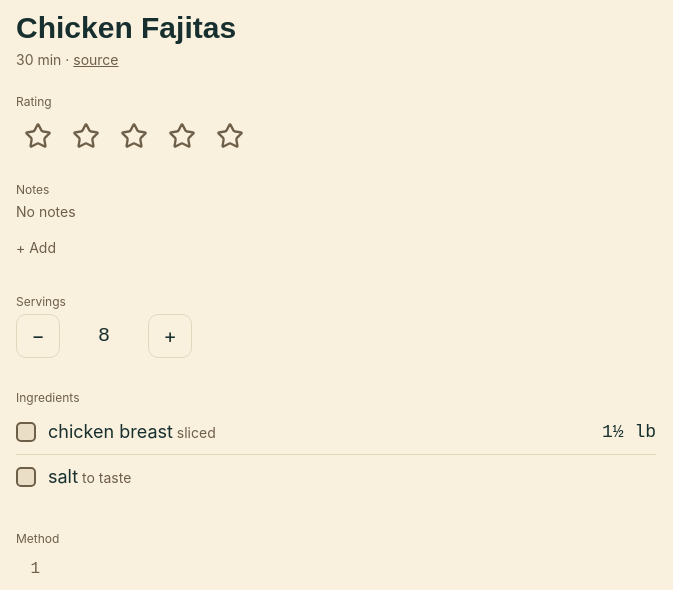
Test: the cook view › scales a marked step amount along with the ingredients
This screenshot has width=673, height=590.
Click the button named "More servings": (170, 336) 148,314 -> 192,358
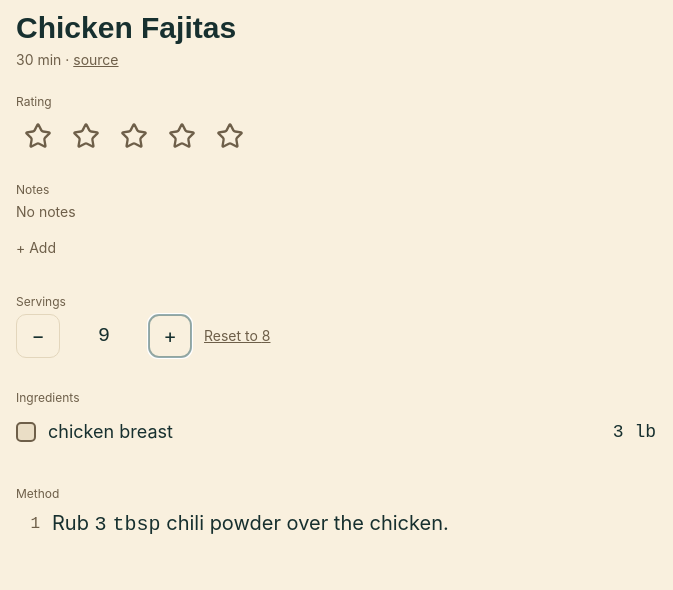
Now the list named "Method" reads "1 Rub 3 tbsp chili powder over the chicken.", box 30,511 -> 449,536
